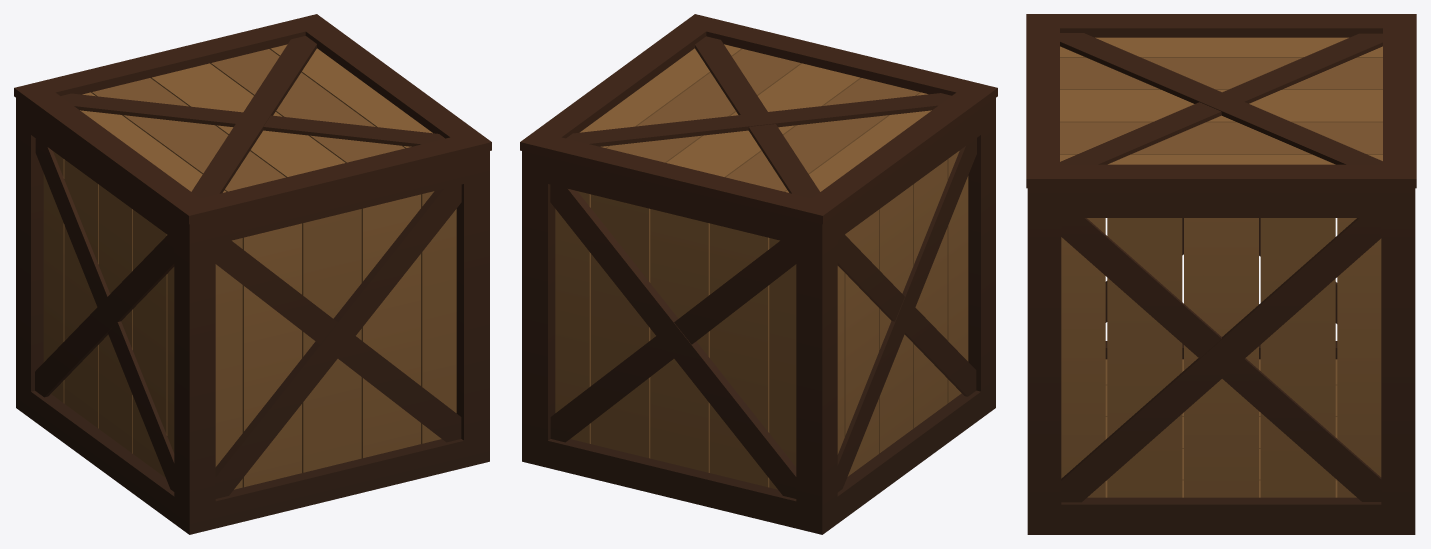
File: Prop_Crate_Box_Open_01.obj
3 renders of one model, left to right at view 1: azimuth 30°, elevation 25°; view 2: azimuth 150°, elevation 25°; view 3: azimuth 270°, elevation 25°, orthographic. The views are drawn at different scales.
Visible parts, largest first — view 1: Prop_Crate_Box_Open_01, Prop_Crate_Box_Open_Top_01; view 2: Prop_Crate_Box_Open_01, Prop_Crate_Box_Open_Top_01; view 3: Prop_Crate_Box_Open_01, Prop_Crate_Box_Open_Top_01.
Boxes of the visible parts, x1,y1,x2,y2 form: Prop_Crate_Box_Open_01: (16, 98, 489, 534); Prop_Crate_Box_Open_Top_01: (14, 14, 491, 224); Prop_Crate_Box_Open_01: (522, 98, 995, 534); Prop_Crate_Box_Open_Top_01: (520, 14, 997, 224); Prop_Crate_Box_Open_01: (1027, 188, 1415, 534); Prop_Crate_Box_Open_Top_01: (1026, 14, 1416, 188).
Size of the model in its own units: 0.7635 by 0.7704 by 0.7639.
Materials: 1 (1 with a texture image).
